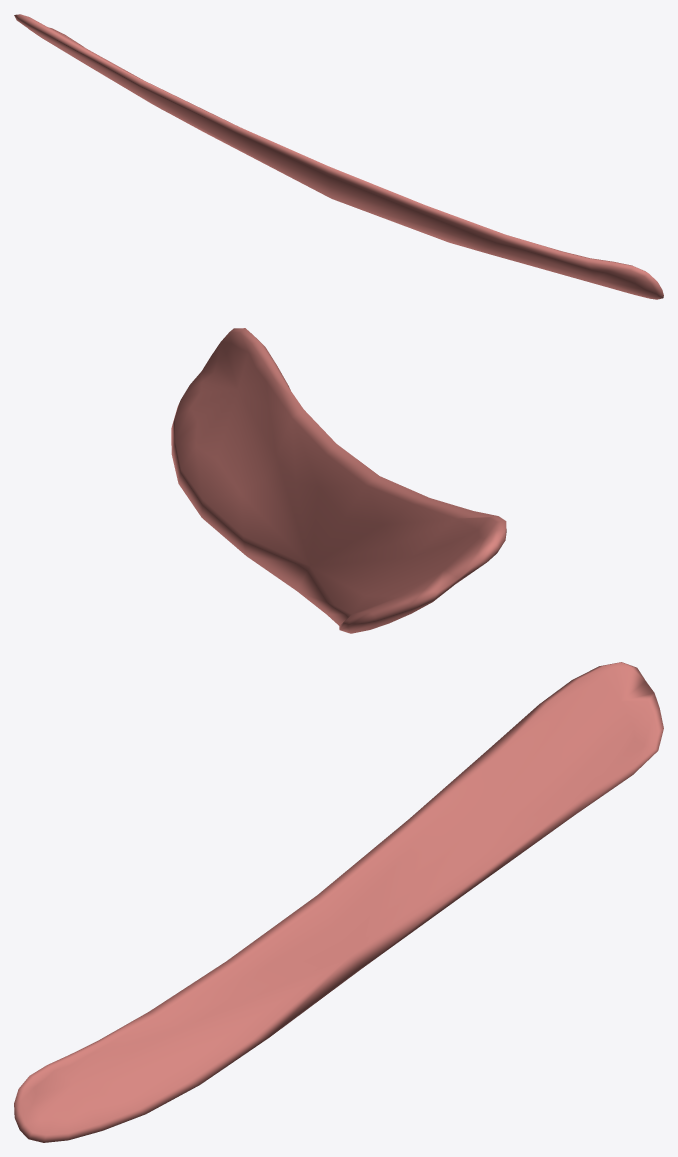
3 renders of one model, top to bottom at view 1: azimuth 30°, elevation 25°; view 2: azimuth 150°, elevation 25°; view 3: azimuth 270°, elevation 25°, orthographic. The views are drawn at different scales.
Parts seen in each view (by area): view 1: ZA_494b5806cdbfc2c8; view 2: ZA_494b5806cdbfc2c8; view 3: ZA_494b5806cdbfc2c8.
Boxes of the visible parts, <box> form: ZA_494b5806cdbfc2c8: <box>14,14,663,299</box>; ZA_494b5806cdbfc2c8: <box>171,328,506,633</box>; ZA_494b5806cdbfc2c8: <box>14,662,663,1142</box>.
Bounding box in the file's own units: 0.0209 × 0.0103 × 0.0244.
